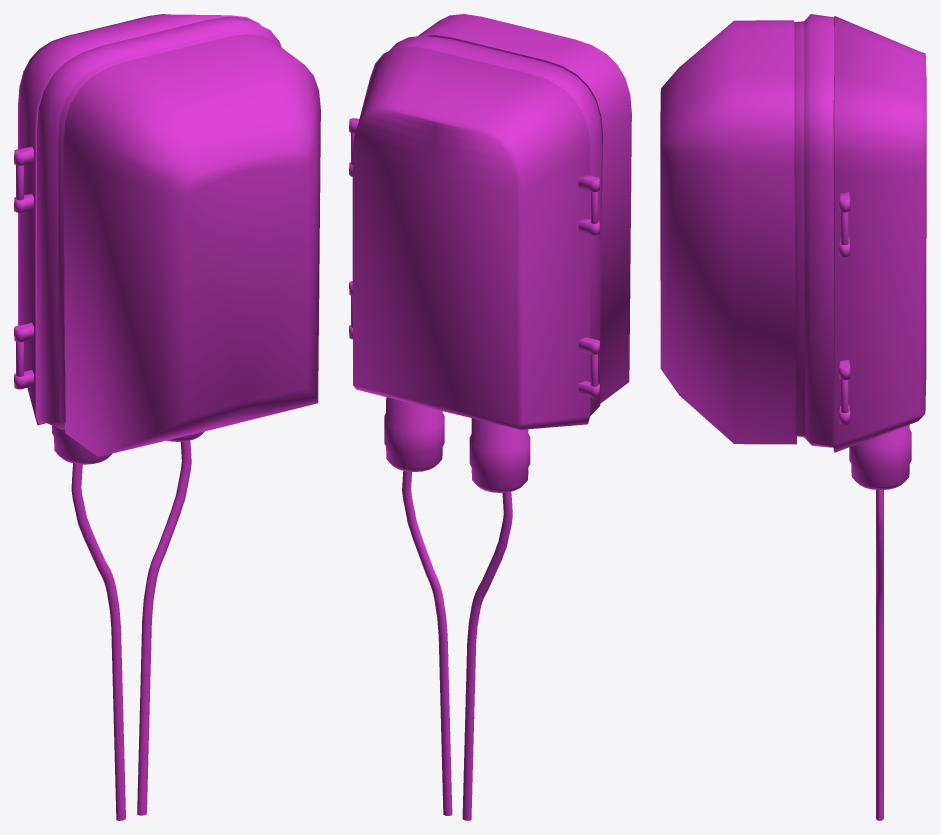
Rendered from Waterproofbox_low.fbx.
3 renders of one model, left to right at view 1: azimuth 30°, elevation 25°; view 2: azimuth 150°, elevation 25°; view 3: azimuth 270°, elevation 25°, orthographic. The views are drawn at different scales.
Parts seen in each view (by area): view 1: Cap_low, body3_low, body2_low, LineR_low, LineL_low, Conect1_low, CylinderRL_low, conectline_low; view 2: body2_low, Cap_low, CylinderRL_low, body3_low, LineR_low, LineL_low, Conect1_low, conectline_low; view 3: Cap_low, body2_low, body3_low, CylinderRL_low, LineR_low, Conect1_low, conectline_low.
Boxes of the visible parts, bbox=[...] form: Cap_low: bbox=[63, 34, 320, 456]; body3_low: bbox=[37, 16, 281, 429]; body2_low: bbox=[18, 14, 260, 425]; LineR_low: bbox=[137, 440, 191, 815]; LineL_low: bbox=[71, 463, 125, 820]; Conect1_low: bbox=[14, 146, 33, 389]; CylinderRL_low: bbox=[52, 425, 204, 464]; conectline_low: bbox=[16, 165, 23, 376]; body2_low: bbox=[352, 46, 590, 429]; Cap_low: bbox=[418, 14, 631, 403]; CylinderRL_low: bbox=[384, 397, 530, 492]; body3_low: bbox=[389, 35, 601, 415]; LineR_low: bbox=[402, 471, 452, 815]; LineL_low: bbox=[462, 491, 512, 820]; Conect1_low: bbox=[349, 118, 599, 398]; conectline_low: bbox=[351, 133, 597, 386]; Cap_low: bbox=[660, 20, 796, 444]; body2_low: bbox=[833, 16, 926, 452]; body3_low: bbox=[794, 14, 834, 447]; CylinderRL_low: bbox=[849, 424, 911, 490]; LineR_low: bbox=[876, 490, 883, 820]; Conect1_low: bbox=[839, 192, 850, 424]; conectline_low: bbox=[841, 212, 848, 412].
Size of the model in its own units: 2800 by 7956 by 2508.
